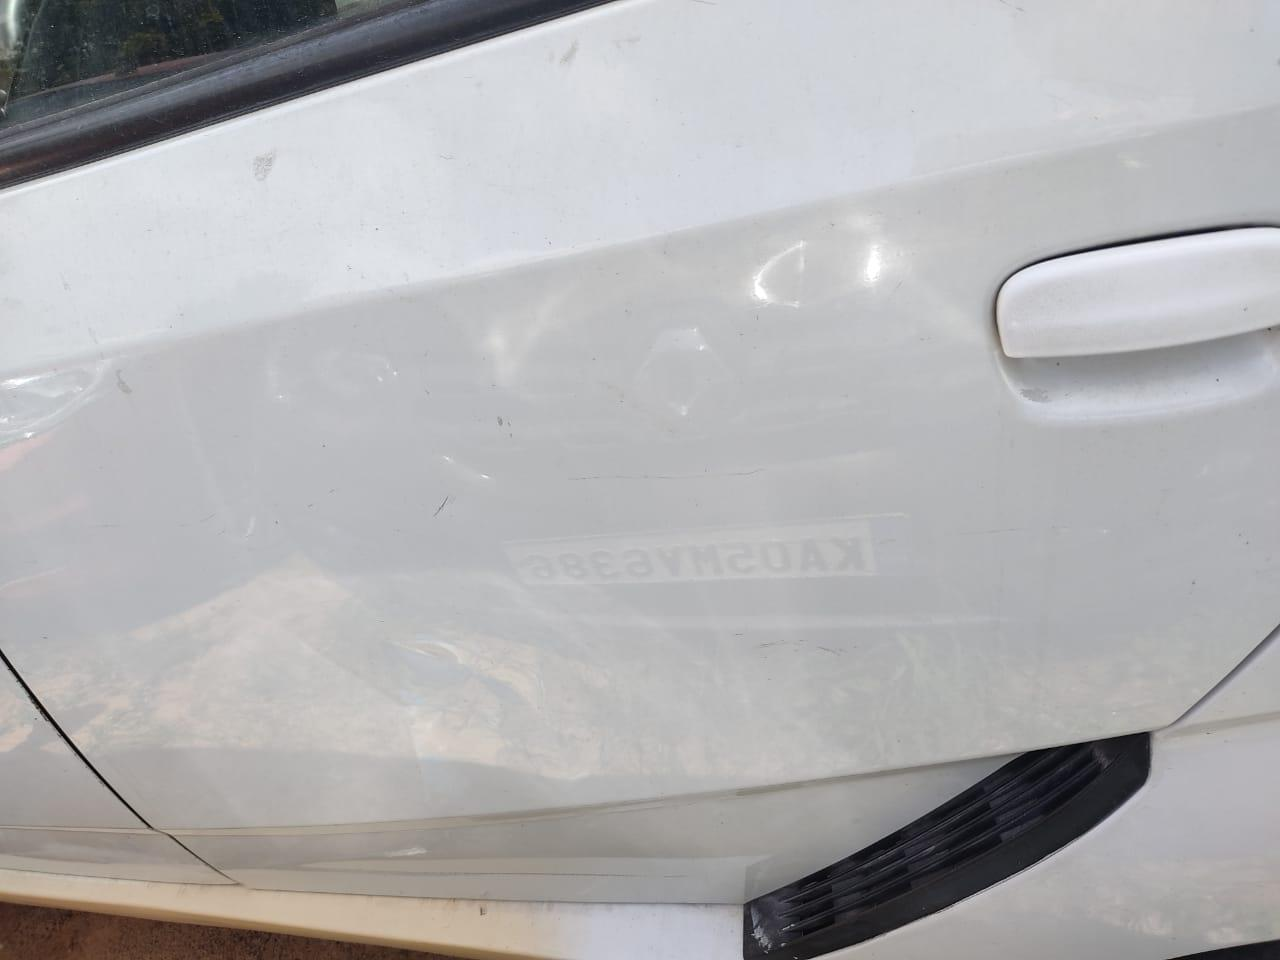bonnet-dent: (69, 21, 1179, 820)
